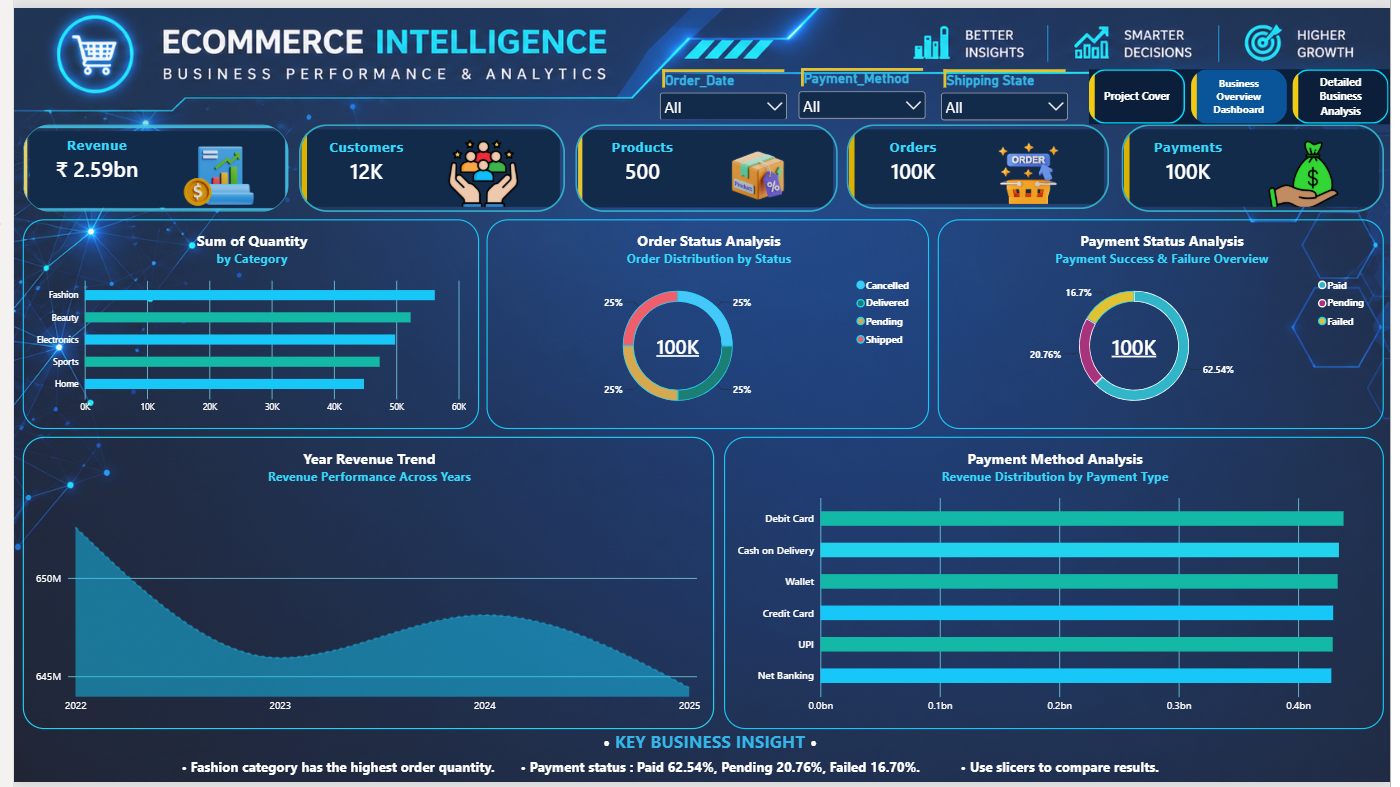

What the dashboard file says about the page in this screenshot:
{"tool":"powerbi","page":{"name":"Business Overview Dashboard","canvas":[1920,1080],"ordinal":1},"visuals":[{"type":"cardVisual","fields":{"Data":["Count(riteshproject orders.Order_ID)"]},"box":[1161.6,162.2,366.3,118.6],"z":0},{"type":"cardVisual","fields":{"Data":["Count(riteshproject payments.Payment_ID)"]},"box":[1545.4,162.2,366.3,122.1],"z":1000},{"type":"cardVisual","fields":{"Data":["Count(riteshproject customers.Customer_ID)"]},"box":[397.7,162.2,371.5,122.1],"z":2000},{"type":"cardVisual","fields":{"Data":["Count(riteshproject products.Product_ID)"]},"box":[783.1,162.2,366.3,122.1],"z":3000},{"type":"cardVisual","fields":{"Data":["riteshproject order_items.Total Revenue"]},"box":[12.2,162.2,371.5,122.1],"z":4000},{"type":"lineChart","title":"Year Revenue Trend","fields":{"Category":["riteshproject orders.Order_Date.Variation.Date Hierarchy.Year","riteshproject orders.Order_Date.Variation.Date Hierarchy.Month"],"Y":["riteshproject order_items.Total Revenue"]},"box":[12.2,598.3,964.5,408.1],"z":5000},{"type":"clusteredBarChart","title":"Payment Method Analysis","fields":{"Category":["riteshproject payments.Payment_Method"],"Y":["Sum(riteshproject payments.Payment_Amount)"]},"box":[990.7,598.3,920.9,408.1],"z":6000},{"type":"donutChart","title":"Payment Status Analysis","fields":{"Category":["riteshproject payments.Payment_Status"],"Y":["Count(riteshproject payments.Payment_ID)"]},"box":[1289,294.8,622.7,293],"z":7000},{"type":"donutChart","title":"Order Status Analysis","fields":{"Category":["riteshproject orders.Order_Status"],"Y":["CountNonNull(riteshproject payments.Order_ID)"]},"box":[659.3,294.8,617.4,293],"z":8000},{"type":"clusteredBarChart","fields":{"Category":["riteshproject products.Category"],"Y":["Sum(riteshproject order_items.Quantity)"]},"box":[12.2,294.8,636.6,293],"z":9000},{"type":"slicer","fields":{"Values":["riteshproject orders.Shipping_State"]},"box":[1289,85.5,186.6,71.5],"z":10000},{"type":"slicer","fields":{"Values":["riteshproject orders.Order_Date"]},"box":[896.5,85.5,186.6,69.8],"z":11000},{"type":"slicer","fields":{"Values":["riteshproject orders.Payment_Method"]},"box":[1090.1,83.7,186.6,73.3],"z":12000},{"type":"textbox","box":[692.4,1006.4,551.2,40.1],"z":13000},{"type":"textbox","box":[12.2,1046.5,1908.1,33.1],"z":14000},{"type":"pageNavigator","box":[1500,85.5,420.4,76.7],"z":15000}]}

Visuals, with their boxes in screenshot pixels (x1, y1, x2, y2), scaled from the page's 1920x1080 canvas onto the 1400x787 screenshot:
cardVisual - Count(riteshproject orders.Order_ID): detection(847, 118, 1114, 205)
cardVisual - Count(riteshproject payments.Payment_ID): detection(1127, 118, 1394, 207)
cardVisual - Count(riteshproject customers.Customer_ID): detection(290, 118, 561, 207)
cardVisual - Count(riteshproject products.Product_ID): detection(571, 118, 838, 207)
cardVisual - riteshproject order_items.Total Revenue: detection(9, 118, 280, 207)
"Year Revenue Trend" lineChart: detection(9, 436, 712, 733)
"Payment Method Analysis" clusteredBarChart: detection(722, 436, 1394, 733)
"Payment Status Analysis" donutChart: detection(940, 215, 1394, 428)
"Order Status Analysis" donutChart: detection(481, 215, 931, 428)
clusteredBarChart - riteshproject products.Category x Sum(riteshproject order_items.Quantity): detection(9, 215, 473, 428)
slicer - riteshproject orders.Shipping_State: detection(940, 62, 1076, 114)
slicer - riteshproject orders.Order_Date: detection(654, 62, 790, 113)
slicer - riteshproject orders.Payment_Method: detection(795, 61, 931, 114)
textbox: detection(505, 733, 907, 763)
textbox: detection(9, 763, 1399, 786)
pageNavigator: detection(1094, 62, 1399, 118)
